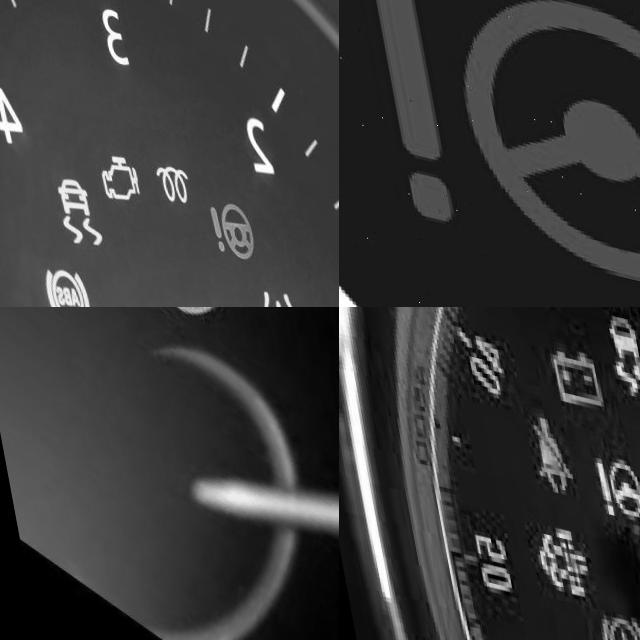Electronic Power Steering: (191, 175, 249, 248), (583, 440, 640, 510)
Electronic Power Steering Warning: (355, 0, 640, 286)
Seat Belt: (522, 404, 567, 481)
